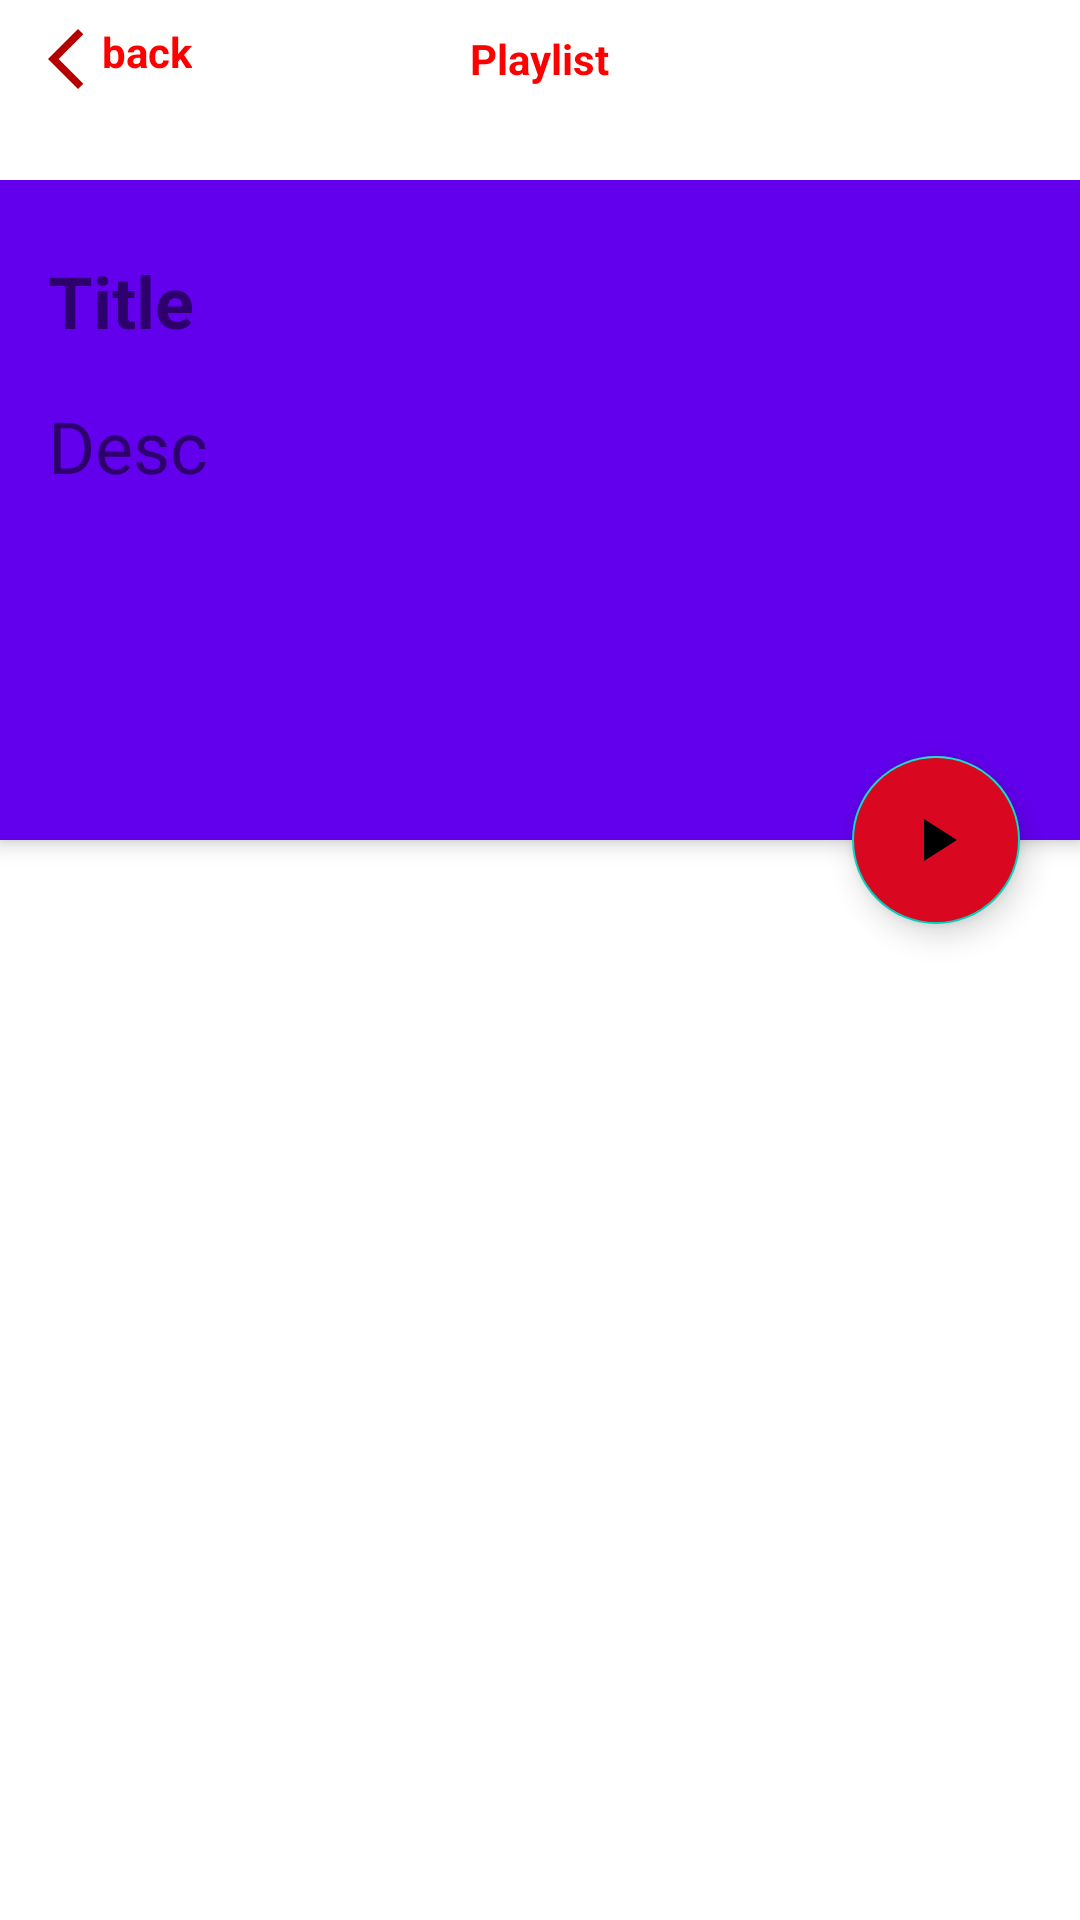

Named icons in this screenshot (1080×1920) and their centers, (x=x, y=y):
play: (x=936, y=840)
